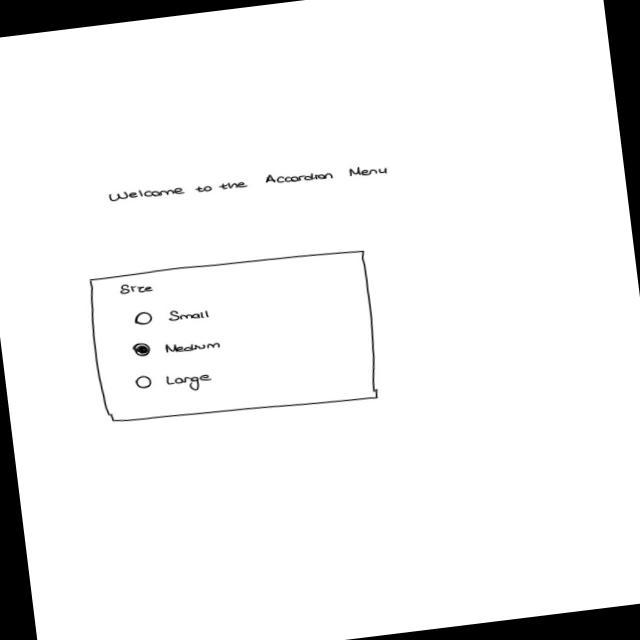container: (83, 242, 383, 433)
label: (105, 158, 388, 208), (116, 278, 157, 297)
radio: (130, 331, 225, 362), (132, 366, 216, 399), (130, 302, 214, 330)
